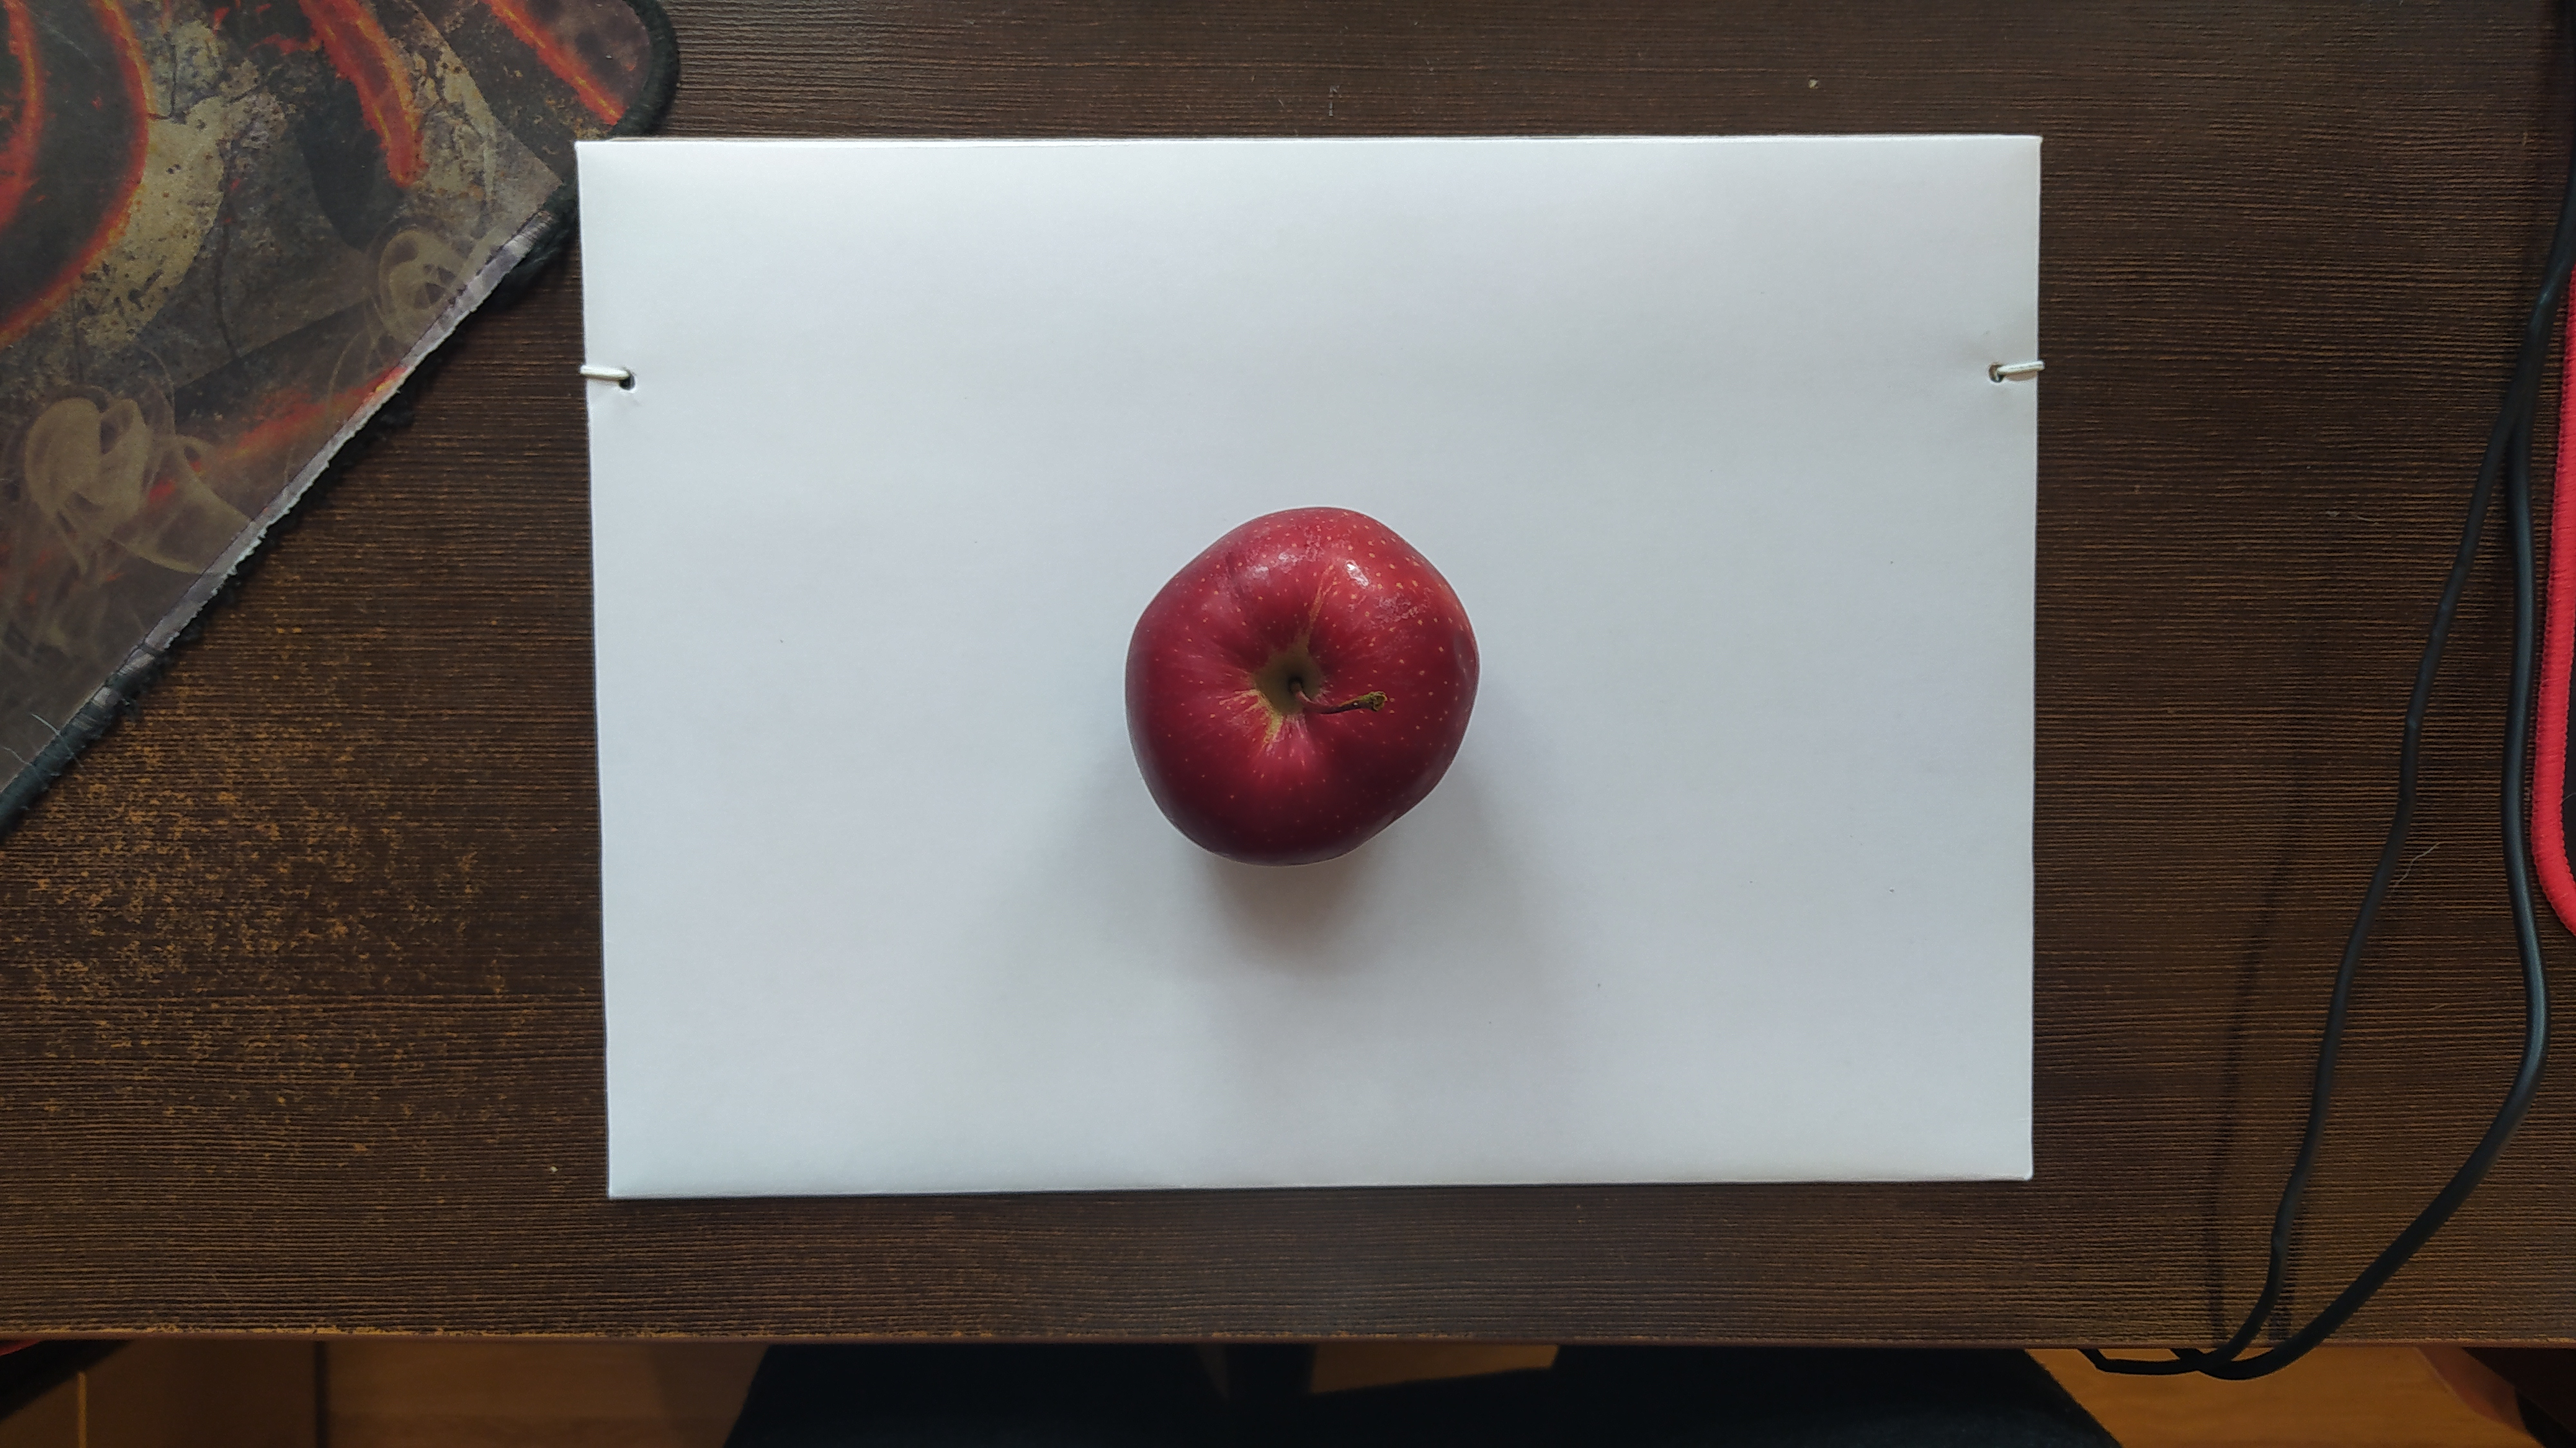apple: (1122, 506, 1484, 869)
